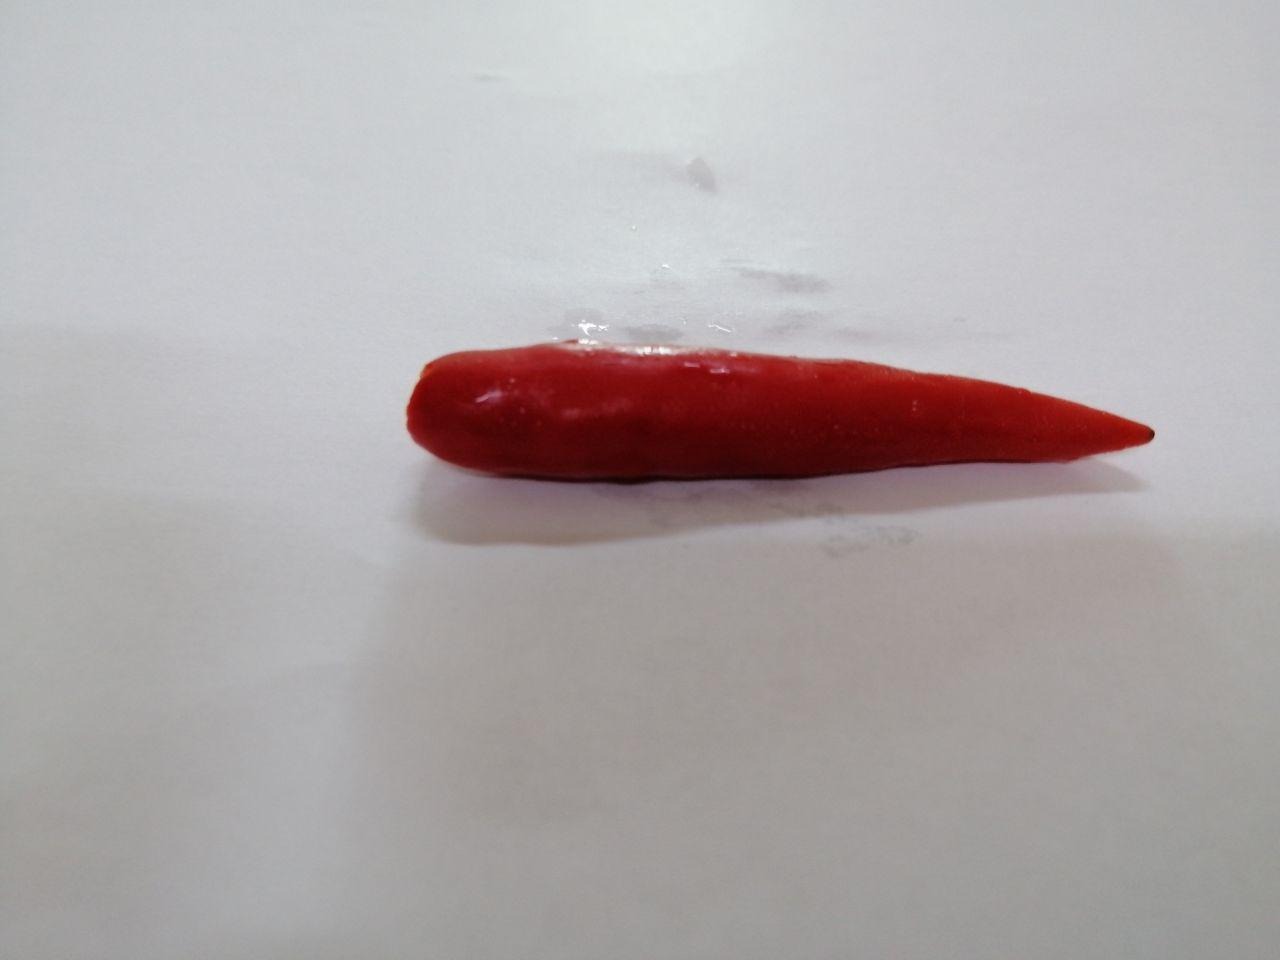lada merah: (378, 312, 1187, 528)
